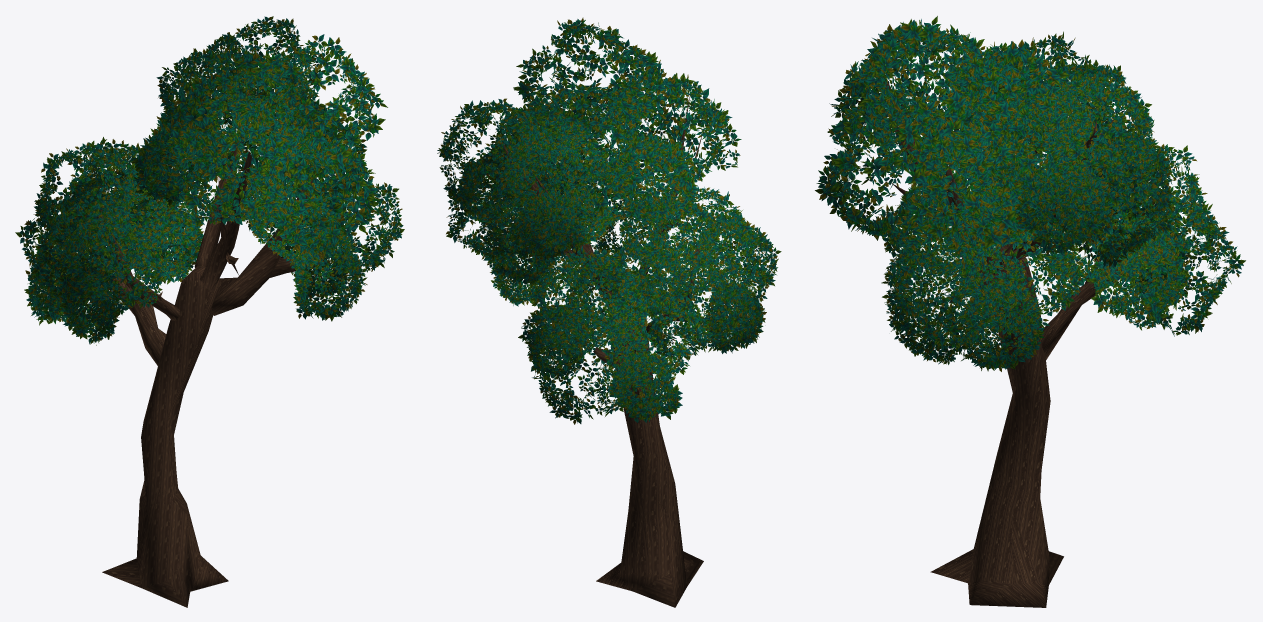
File: LargeTree_01.fbx
The picture shows the model from 3 angles, left to right: view 1: azimuth 30°, elevation 25°; view 2: azimuth 150°, elevation 25°; view 3: azimuth 270°, elevation 25°; orthographic projection. The views are drawn at different scales.
Parts seen in each view (by area): view 1: leaf3.002, leaf3.004; view 2: leaf3.002, leaf3.004; view 3: leaf3.002, leaf3.004.
Boxes of the visible parts, x1,y1,x2,y2 form: leaf3.002: (15,16,404,345); leaf3.004: (95,82,323,607); leaf3.002: (437,17,781,424); leaf3.004: (502,96,704,607); leaf3.002: (815,16,1245,371); leaf3.004: (877,68,1147,607).
Bounding box in the file's own units: 697 × 1123 × 709.
